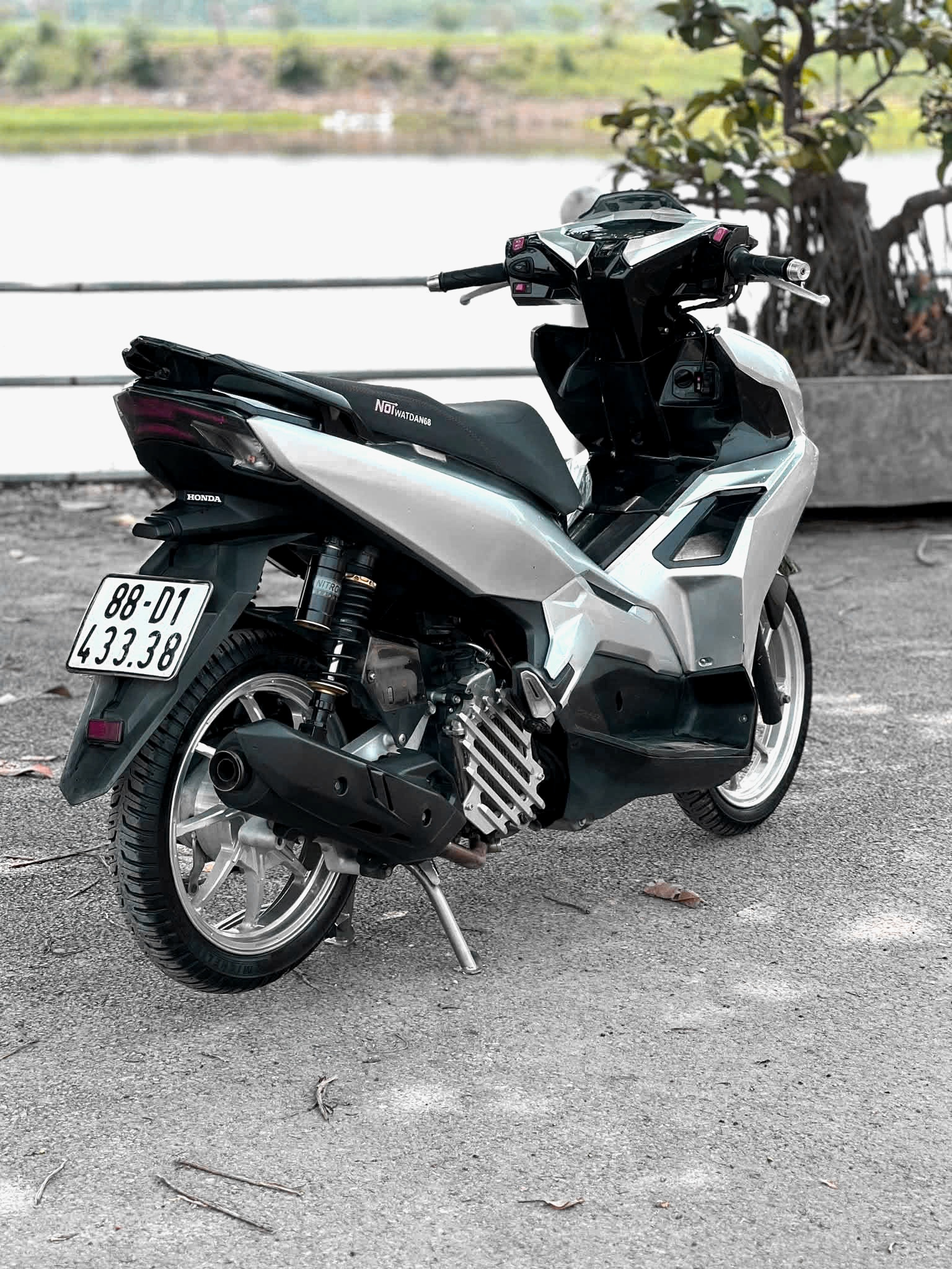Bien-so: (23, 568, 180, 684)
